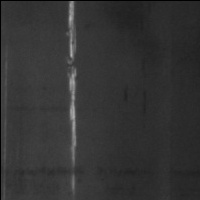scratches: (63, 1, 82, 195)
